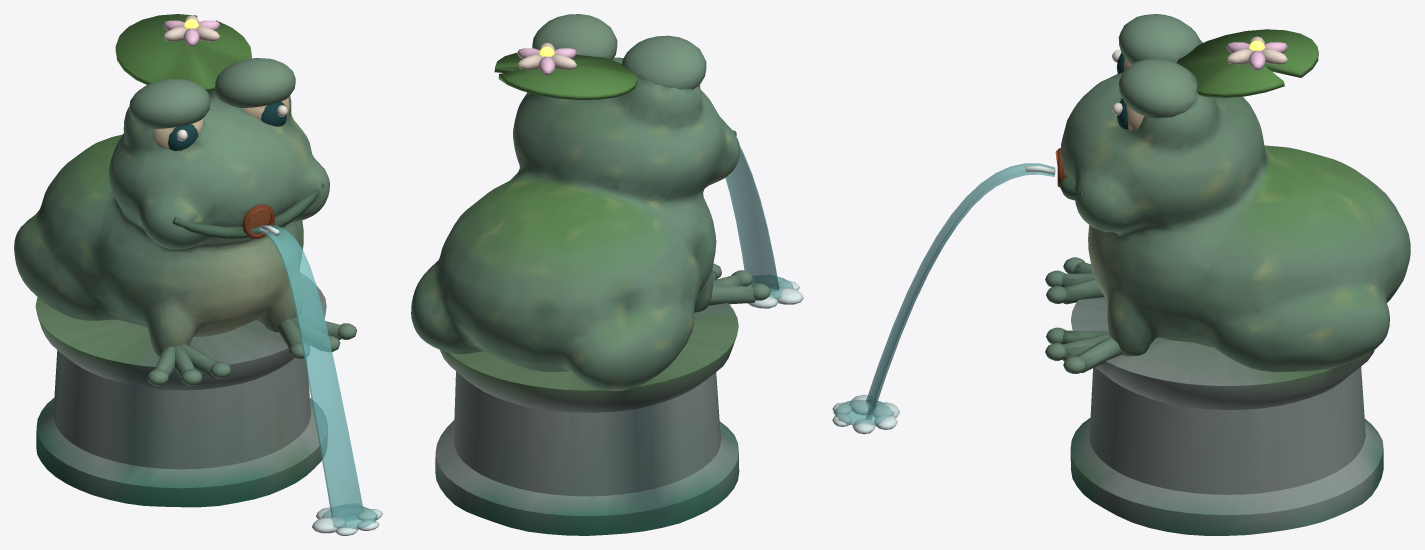
File: grotto_frog_spout.glb
3 renders of one model, left to right at view 1: azimuth 30°, elevation 25°; view 2: azimuth 150°, elevation 25°; view 3: azimuth 270°, elevation 25°, orthographic. The views are drawn at different scales.
Parts seen in each view (by area): view 1: grotto_frog_spout; view 2: grotto_frog_spout; view 3: grotto_frog_spout.
Boxes of the visible parts, bbox=[...] form: grotto_frog_spout: bbox=[14, 14, 382, 535]; grotto_frog_spout: bbox=[411, 14, 803, 535]; grotto_frog_spout: bbox=[832, 14, 1410, 535].
Size of the model in its own units: 6.82 by 10.61 by 12.58.
